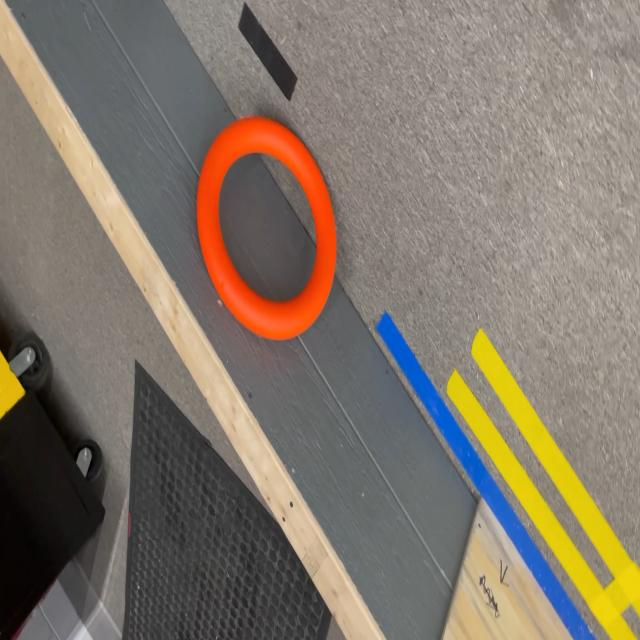note: (197, 118, 336, 338)
